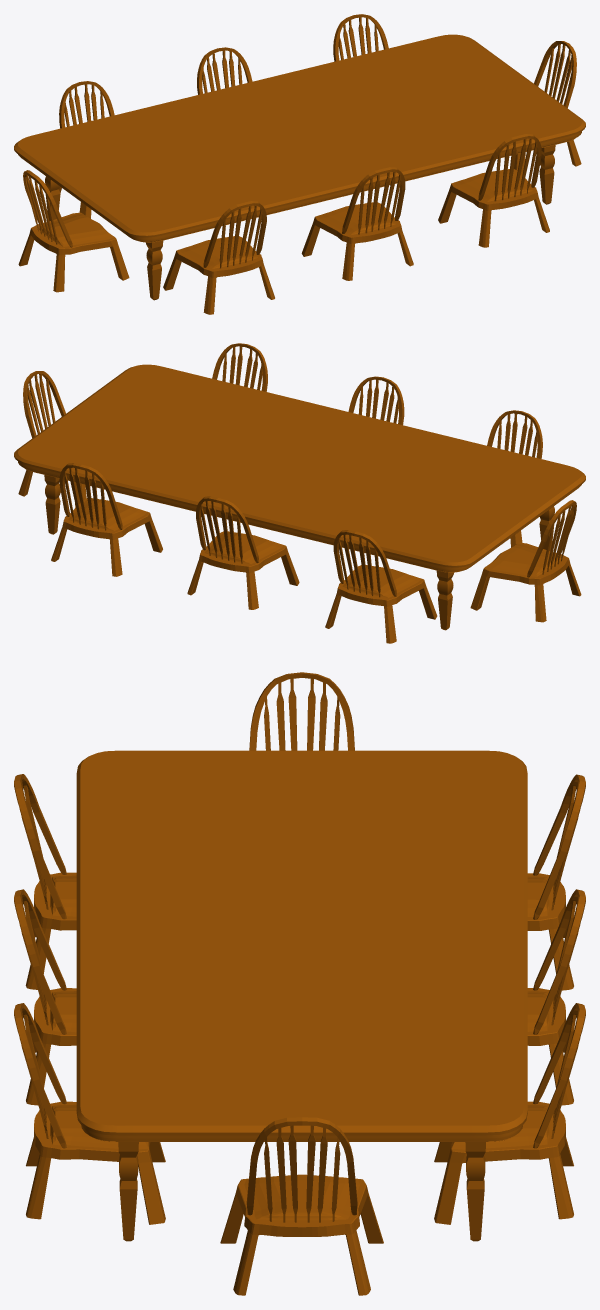
File: SM_Kitchen Table.fbx
3 renders of one model, top to bottom at view 1: azimuth 30°, elevation 25°; view 2: azimuth 150°, elevation 25°; view 3: azimuth 270°, elevation 25°, orthographic. The views are drawn at different scales.
Parts seen in each view (by area): view 1: SM_Kitchen Table, SM_Kitchen Chair_010, SM_Kitchen Chair_008, SM_Kitchen Chair_009, SM_Kitchen Chair_004, SM_Kitchen Chair_002, SM_Kitchen Chair_005, SM_Kitchen Chair_007, SM_Kitchen Chair_006; view 2: SM_Kitchen Table, SM_Kitchen Chair_006, SM_Kitchen Chair_007, SM_Kitchen Chair_005, SM_Kitchen Chair_004, SM_Kitchen Chair_002, SM_Kitchen Chair_010, SM_Kitchen Chair_008, SM_Kitchen Chair_009; view 3: SM_Kitchen Table, SM_Kitchen Chair_002, SM_Kitchen Chair_008, SM_Kitchen Chair_007, SM_Kitchen Chair_010, SM_Kitchen Chair_009, SM_Kitchen Chair_006, SM_Kitchen Chair_005, SM_Kitchen Chair_004.
Part boxes in pixels (box(x1,y1,x2,y2)): SM_Kitchen Table: box(14, 34, 585, 300); SM_Kitchen Chair_010: box(163, 201, 274, 314); SM_Kitchen Chair_008: box(438, 134, 549, 247); SM_Kitchen Chair_009: box(301, 167, 413, 280); SM_Kitchen Chair_004: box(18, 170, 129, 292); SM_Kitchen Chair_002: box(514, 41, 581, 174); SM_Kitchen Chair_005: box(59, 81, 114, 218); SM_Kitchen Chair_007: box(333, 14, 388, 61); SM_Kitchen Chair_006: box(197, 47, 252, 94); SM_Kitchen Table: box(14, 364, 585, 630); SM_Kitchen Chair_006: box(187, 496, 299, 609); SM_Kitchen Chair_007: box(51, 463, 162, 576); SM_Kitchen Chair_005: box(325, 530, 437, 643); SM_Kitchen Chair_004: box(470, 500, 581, 622); SM_Kitchen Chair_002: box(18, 371, 86, 507); SM_Kitchen Chair_010: box(487, 410, 542, 547); SM_Kitchen Chair_008: box(212, 343, 267, 391); SM_Kitchen Chair_009: box(348, 376, 404, 425); SM_Kitchen Table: box(76, 750, 527, 1241); SM_Kitchen Chair_002: box(220, 1117, 383, 1295); SM_Kitchen Chair_008: box(14, 1003, 165, 1224); SM_Kitchen Chair_007: box(434, 1003, 585, 1224); SM_Kitchen Chair_010: box(14, 774, 76, 989); SM_Kitchen Chair_009: box(14, 889, 76, 1105); SM_Kitchen Chair_006: box(527, 889, 585, 1105); SM_Kitchen Chair_005: box(527, 774, 585, 990); SM_Kitchen Chair_004: box(249, 672, 354, 750).
Size of what is drawn, in the model's own units: 7068 by 1329 by 3805.
